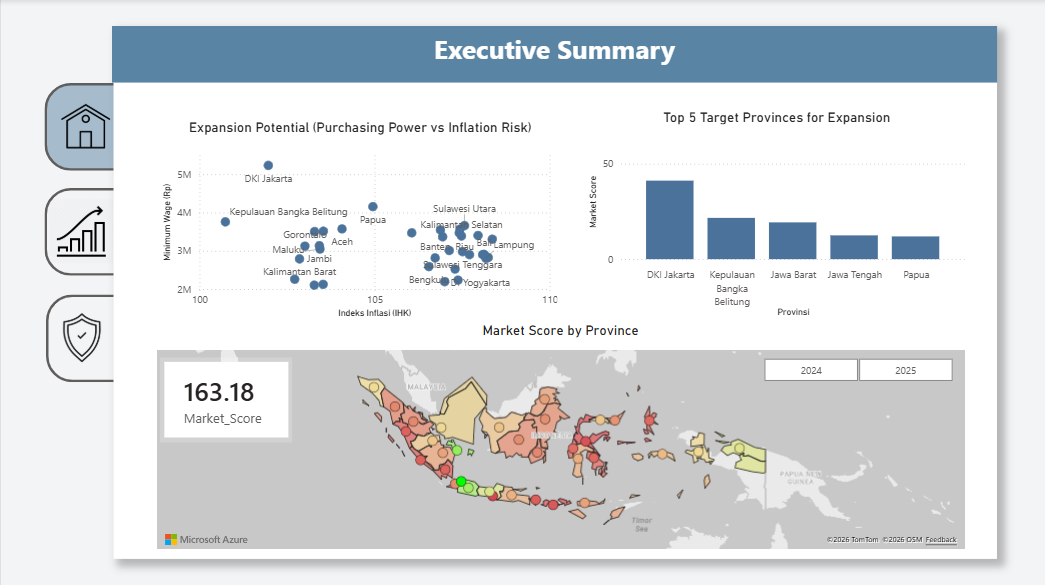

The page's visual inventory and layout, read from the dashboard file:
{"tool":"powerbi","page":{"name":"Executive Summary","canvas":[1280,720],"ordinal":0},"visuals":[{"type":"actionButton","box":[52.5,102.5,132.5,107.5],"z":0},{"type":"actionButton","box":[55,362.5,132.5,107.5],"z":1000},{"type":"actionButton","box":[52.5,232.5,132.5,107.5],"z":2000},{"type":"shape","box":[137.5,32.5,1082.5,652.5],"z":3000},{"type":"scatterChart","title":"Expansion Potential (Purchasing Power vs Inflation Risk)","fields":{"Category":["Dim_Provinsi.Provinsi"],"X":["Dim_Provinsi.Avg_Inflation"],"Y":["Dim_Provinsi.Avg_Salary"]},"box":[193.6,146.5,494,248.2],"z":4000},{"type":"azureMap","title":"Market Score by Province","fields":{"Category":["Dim_Provinsi.Provinsi"]},"box":[186.2,394.7,1000.4,283],"z":4000,"group":"g1"},{"type":"clusteredColumnChart","title":"Top 5 Target Provinces for Expansion","fields":{"Category":["Dim_Provinsi.Provinsi"],"Y":["Dim_Provinsi.Market_Score"]},"box":[714.9,134,471.6,260.6],"z":5000},{"type":"cardVisual","fields":{"Data":["Dim_Provinsi.Market_Score"]},"box":[194.6,438.3,162.2,103.8],"z":5000,"group":"g1"},{"type":"image","box":[62.5,115,82.5,80],"z":6000},{"type":"slicer","fields":{"Values":["Fact_Inflasi.Tahun"]},"box":[910.6,432.7,279.9,41.2],"z":6000,"group":"g1"},{"type":"image","box":[57.5,245,82.5,80],"z":7000},{"type":"image","box":[40,375,117.5,80],"z":8000},{"type":"group","id":"g1","title":"Group 1","box":[186.2,394.7,1004.3,283],"z":9000},{"type":"textbox","box":[136.5,32.3,1084.8,69.5],"z":10000}]}

Visuals, with their boxes on the page's 1280x720 design canvas (x1, y1, x2, y2). These are canvas units, not pixel positions in the 1045x585 screenshot, which may show the page scaled, cropped or inside an application window:
actionButton: 52, 102, 185, 210
actionButton: 55, 362, 188, 470
actionButton: 52, 232, 185, 340
shape: 138, 32, 1220, 685
"Expansion Potential (Purchasing Power vs Inflation Risk)" scatterChart: 194, 146, 688, 395
"Market Score by Province" azureMap: 186, 395, 1187, 678
"Top 5 Target Provinces for Expansion" clusteredColumnChart: 715, 134, 1186, 395
cardVisual - Dim_Provinsi.Market_Score: 195, 438, 357, 542
image: 62, 115, 145, 195
slicer - Fact_Inflasi.Tahun: 911, 433, 1190, 474
image: 58, 245, 140, 325
image: 40, 375, 158, 455
"Group 1" group: 186, 395, 1190, 678
textbox: 136, 32, 1221, 102
